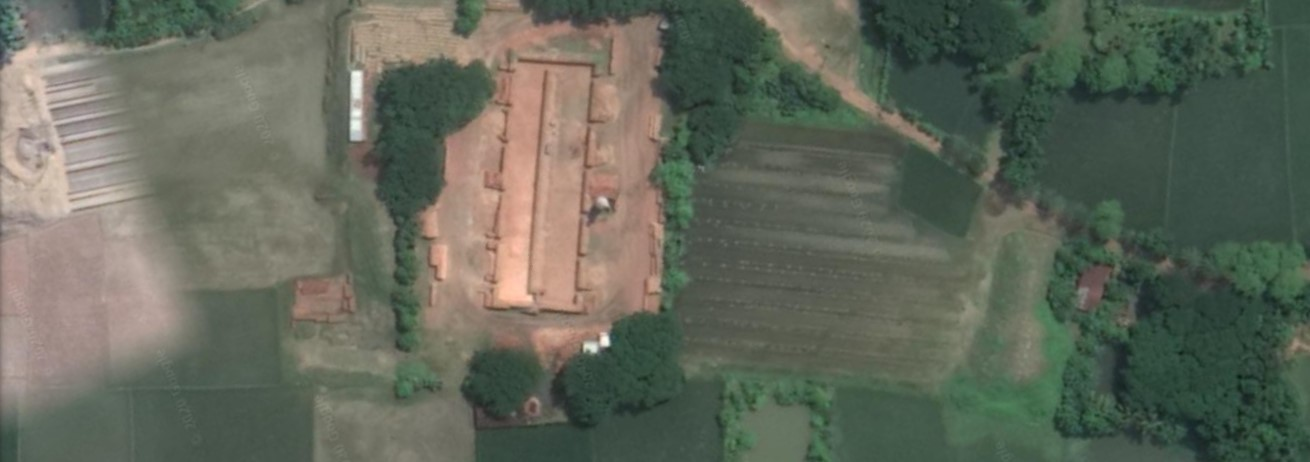kiln: (497, 50, 631, 304)
